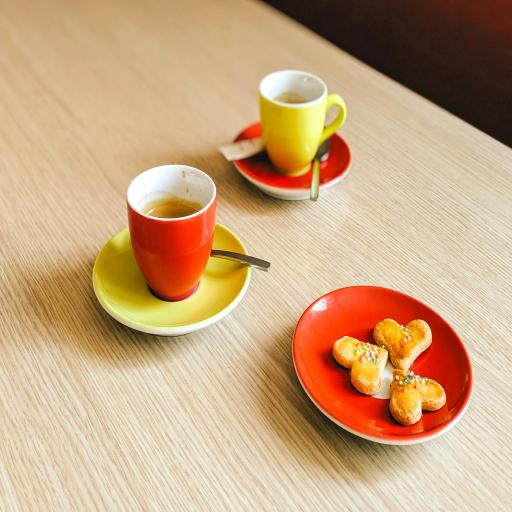cup: (126, 164, 217, 302)
